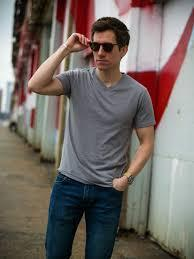Tshirt: (50, 70, 158, 186)
